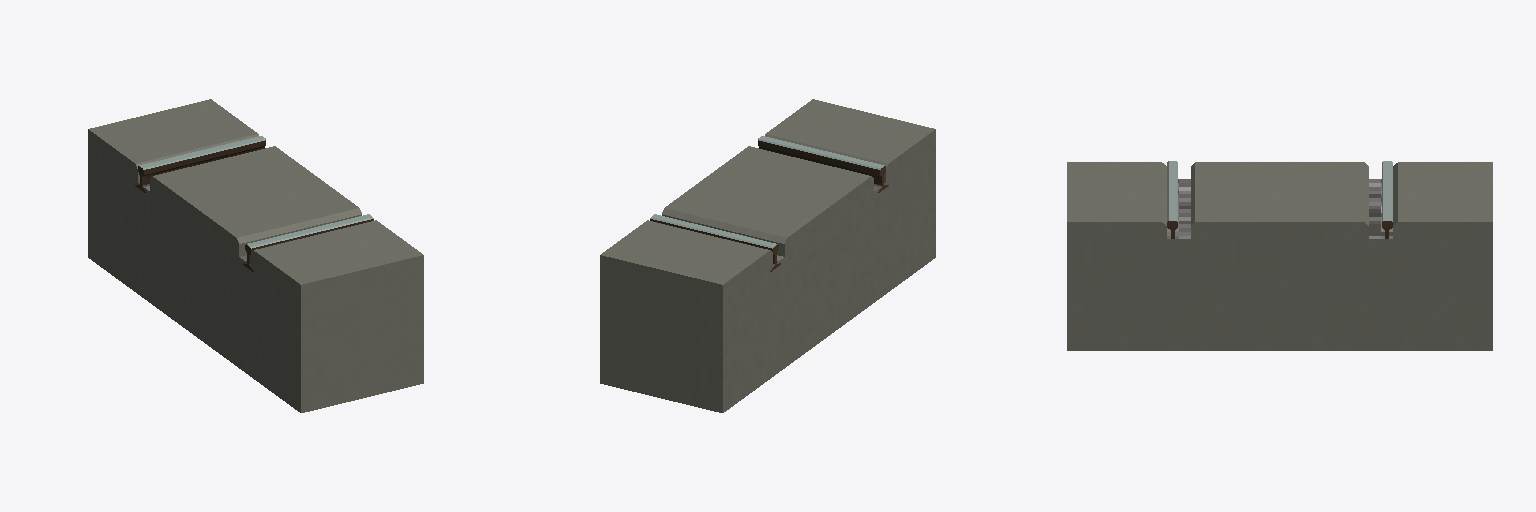
The picture shows the model from 3 angles: view 1: azimuth 30°, elevation 25°; view 2: azimuth 150°, elevation 25°; view 3: azimuth 270°, elevation 25°; orthographic projection.
Visible parts, largest first — view 1: RAIL_BASE_Cube.001, RAIL_RIGHT_Cube.010, RAIL_LEFT_Cube.002; view 2: RAIL_BASE_Cube.001, RAIL_LEFT_Cube.002, RAIL_RIGHT_Cube.010; view 3: RAIL_BASE_Cube.001, RAIL_LEFT_Cube.002, RAIL_RIGHT_Cube.010.
Part boxes in pixels (x1,y1,x2,y2): RAIL_BASE_Cube.001: (88, 99, 423, 412); RAIL_RIGHT_Cube.010: (135, 136, 265, 192); RAIL_LEFT_Cube.002: (243, 214, 373, 271); RAIL_BASE_Cube.001: (600, 99, 935, 412); RAIL_LEFT_Cube.002: (758, 136, 888, 192); RAIL_RIGHT_Cube.010: (650, 214, 780, 271); RAIL_BASE_Cube.001: (1067, 162, 1492, 350); RAIL_LEFT_Cube.002: (1167, 161, 1177, 238); RAIL_RIGHT_Cube.010: (1382, 161, 1392, 238).
Bounding box in the file's own units: 1 × 1.01 × 3.
Materials: 1 (1 with a texture image).